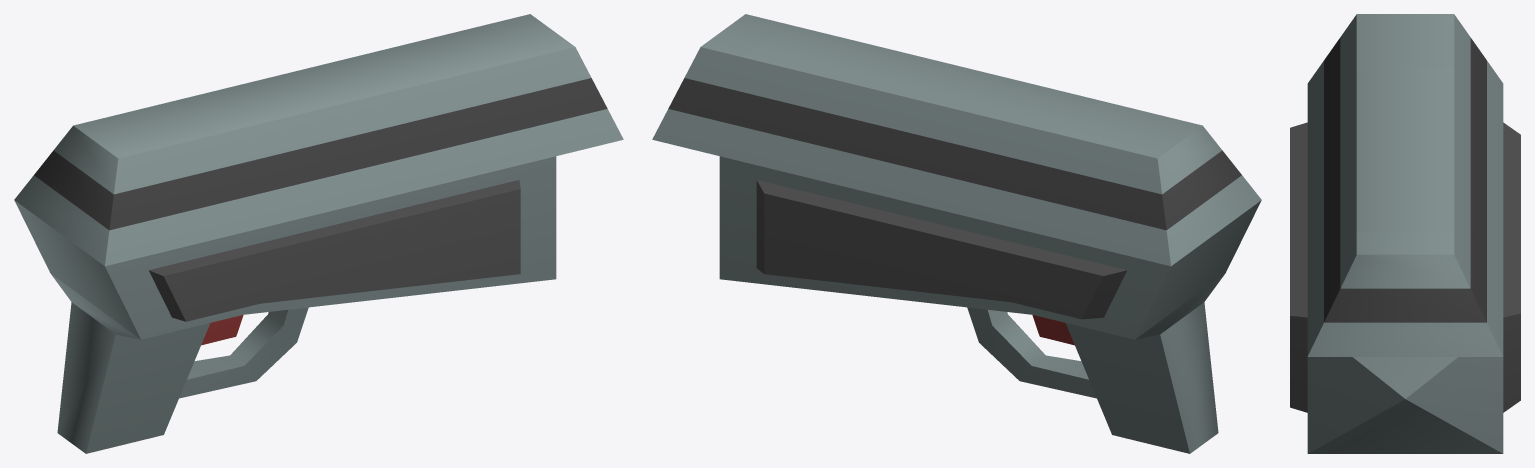
Rendered from Pistol.fbx.
3 views of the same model, side by side, from view 1: azimuth 30°, elevation 25°; view 2: azimuth 150°, elevation 25°; view 3: azimuth 270°, elevation 25° (orthographic). The views are drawn at different scales.
Parts seen in each view (by area): view 1: Weapon1.001; view 2: Weapon1.001; view 3: Weapon1.001.
Boxes of the visible parts, x1=… form: Weapon1.001: x1=14, y1=14, x2=623, y2=453; Weapon1.001: x1=652, y1=14, x2=1261, y2=453; Weapon1.001: x1=1290, y1=14, x2=1520, y2=453.
Size of the model in its own units: 4.98 by 2.71 by 1.78.
